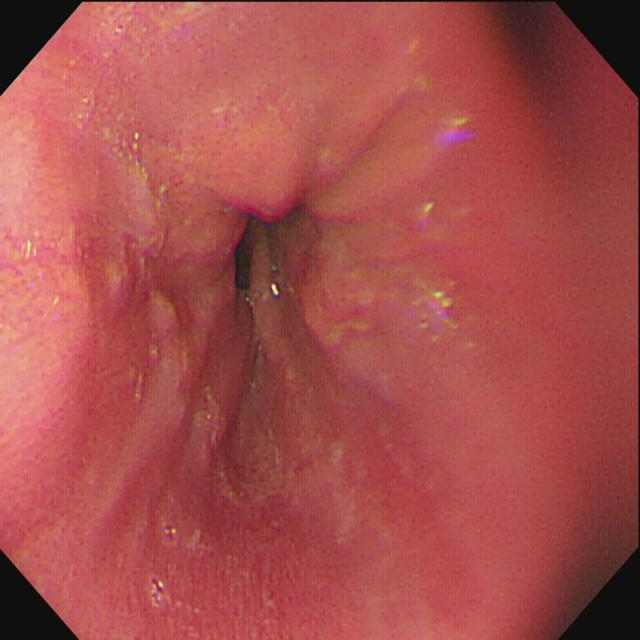E: (236, 247, 252, 289)
